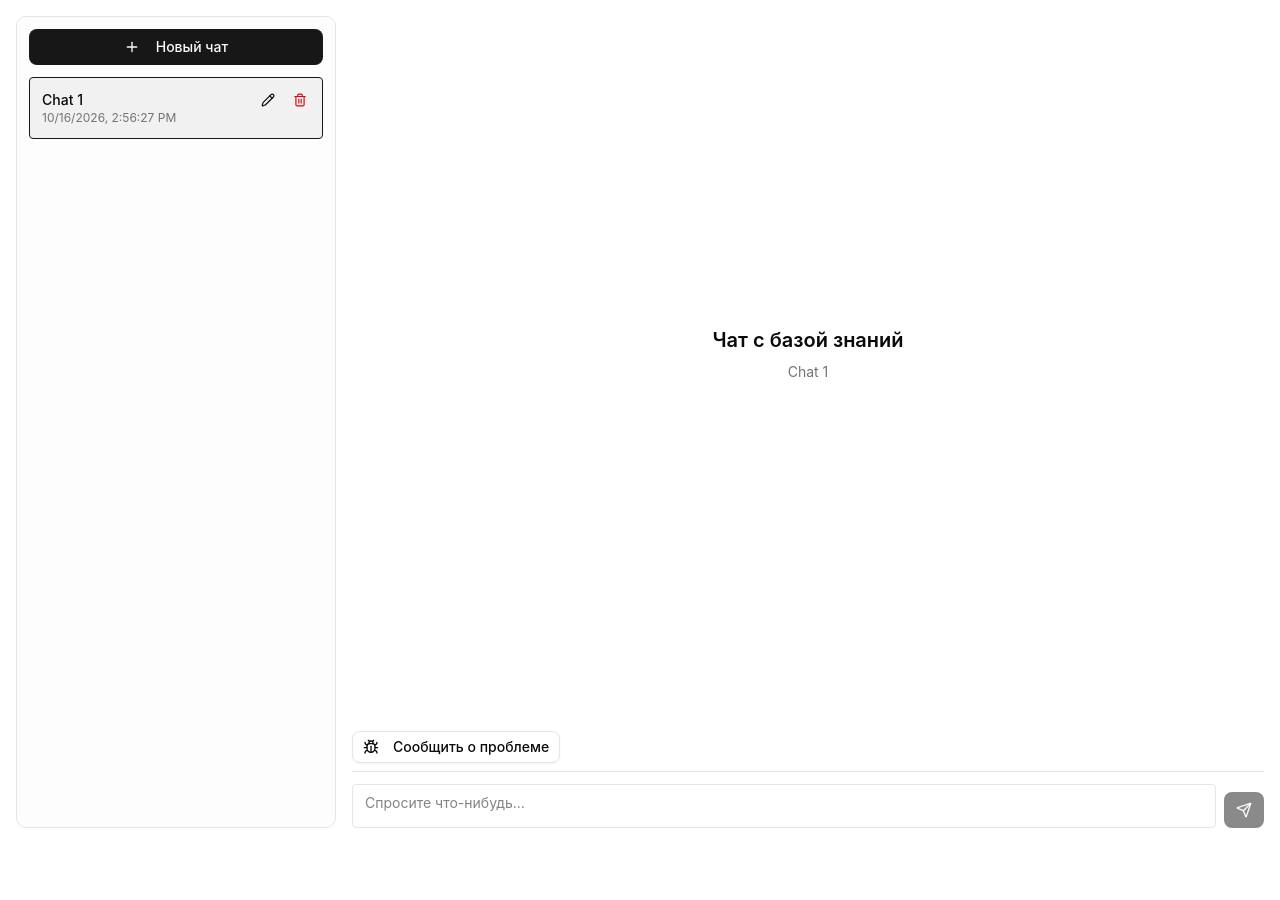
Test: ChatPage › renders assistant output and sources
(page scrolled)
Type "sqlite" into the text box with placeholder "Спросите что-нибудь..." at (784, 806), box [352,784,1216,828]
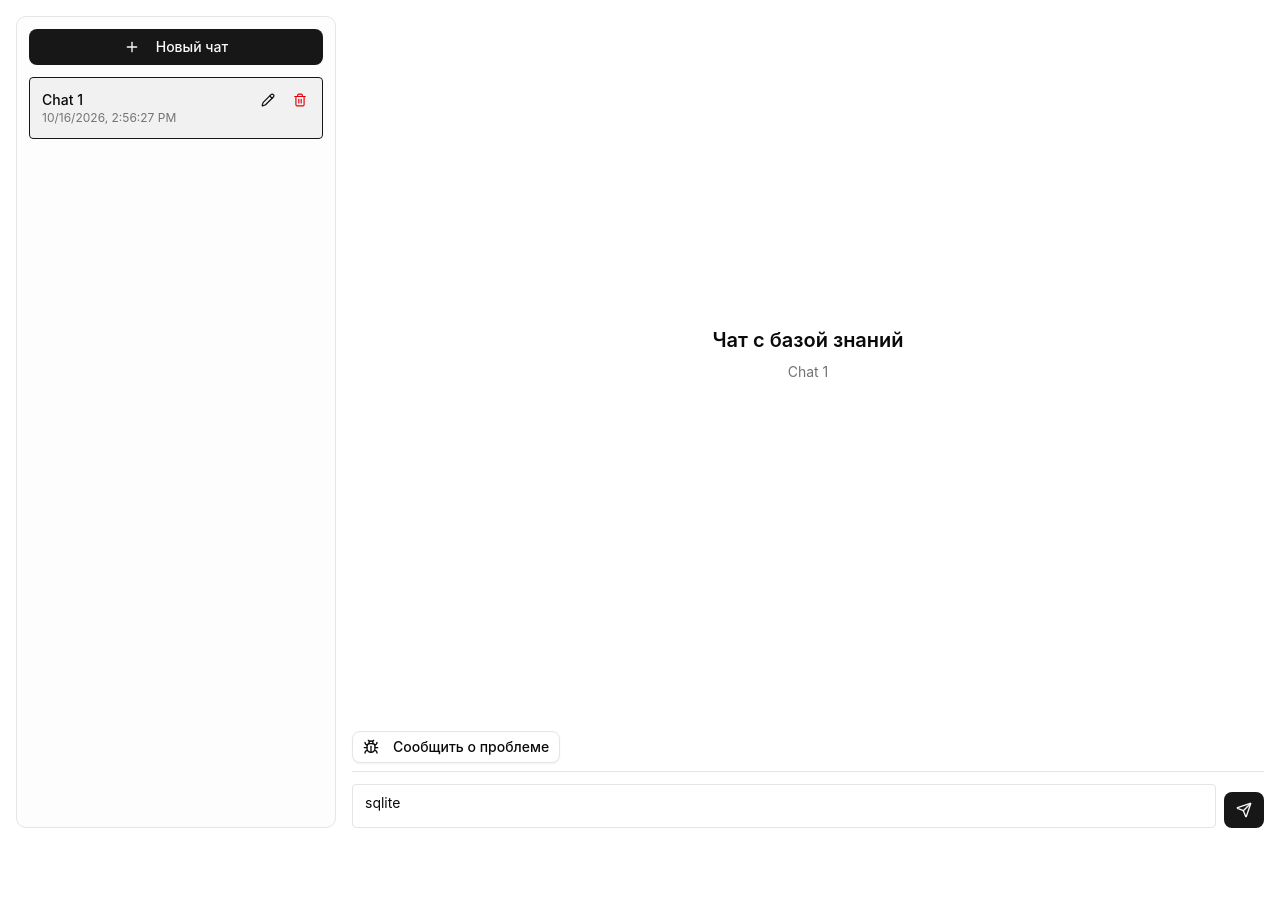
Click the button named "Отправить" at (1244, 810), box [1224,792,1264,828]
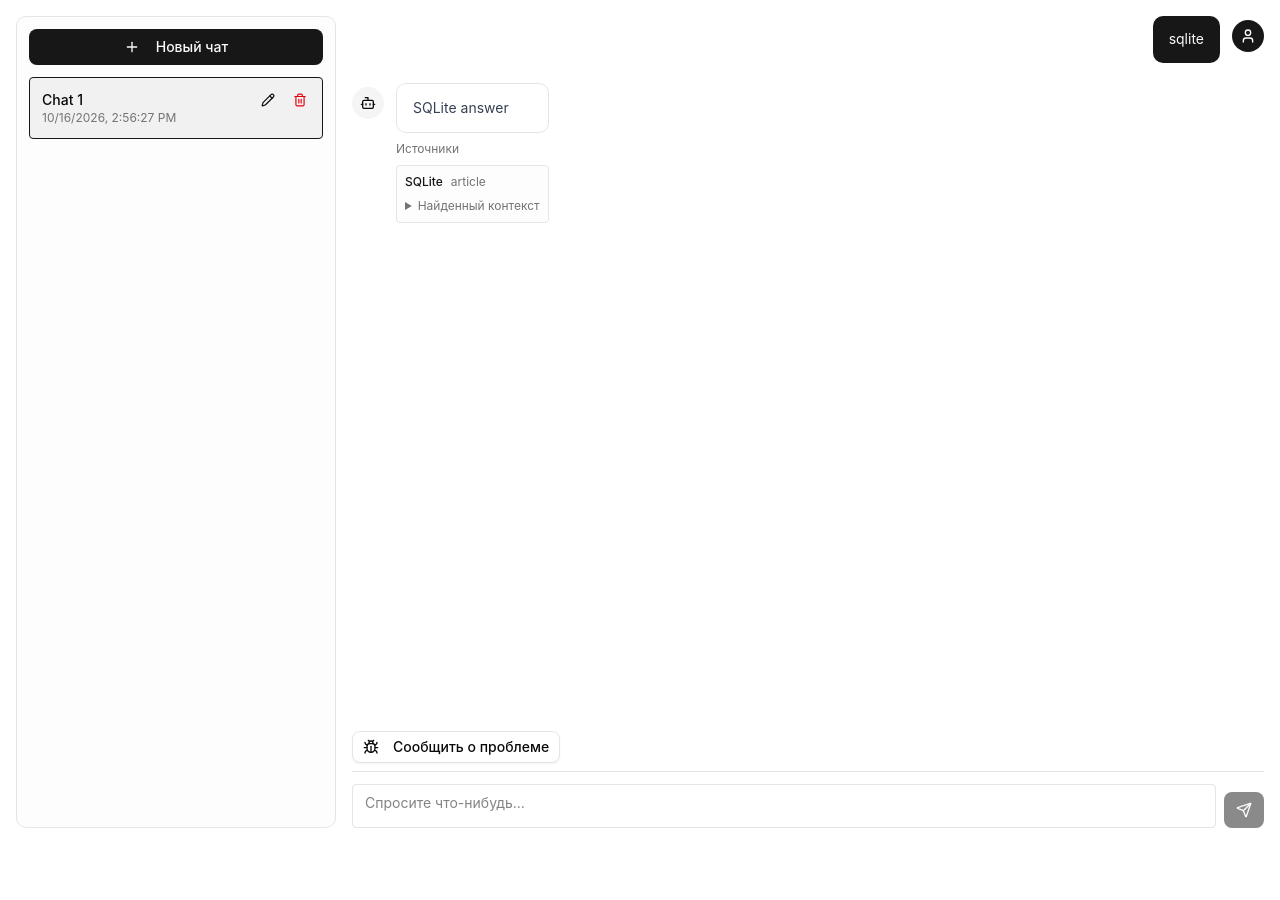
Check: the text "SQLite answer" is shown, box [413,99,509,116]
Check: the link "SQLite" is shown, box [405,174,443,189]
